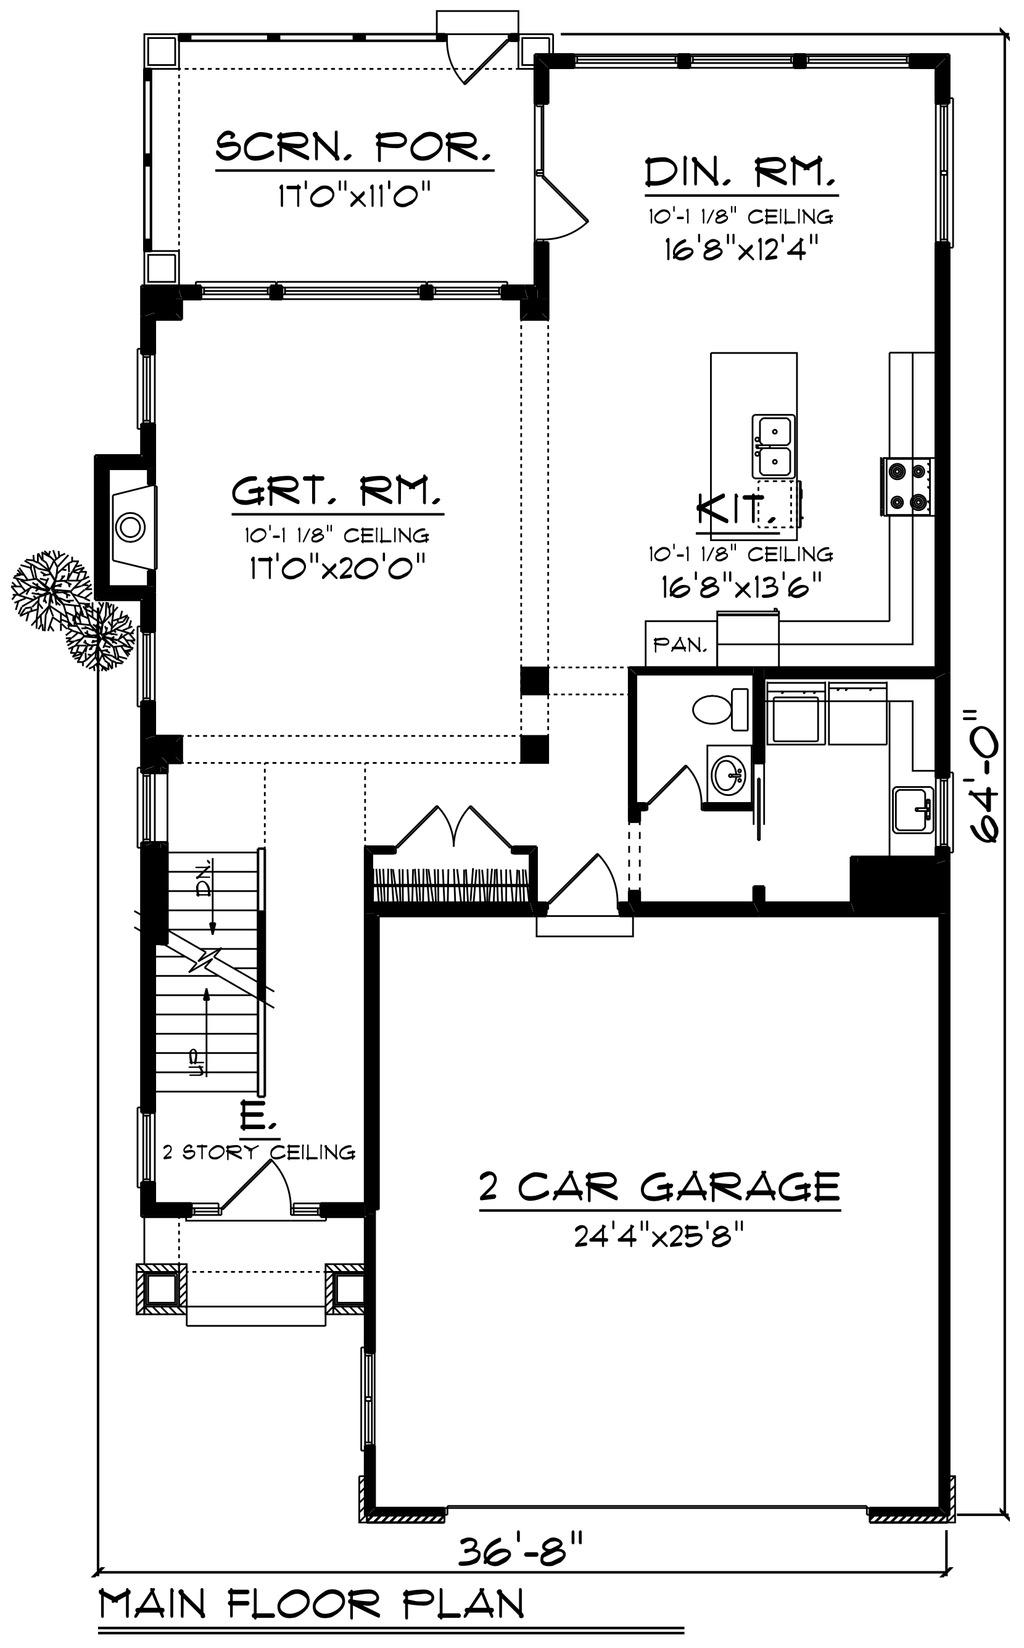door: (394, 803, 511, 855), (536, 169, 595, 250), (432, 31, 513, 88), (546, 855, 622, 917), (227, 1153, 290, 1220), (646, 762, 694, 820)
kitchen_bar: (697, 343, 805, 543)
large_sink: (687, 685, 750, 738)
small_sink: (701, 748, 751, 810)
stairs: (155, 843, 274, 1101)
windows: (560, 48, 910, 75), (188, 273, 520, 294), (934, 92, 958, 252), (129, 346, 168, 431), (134, 760, 164, 846), (136, 1099, 164, 1188)
